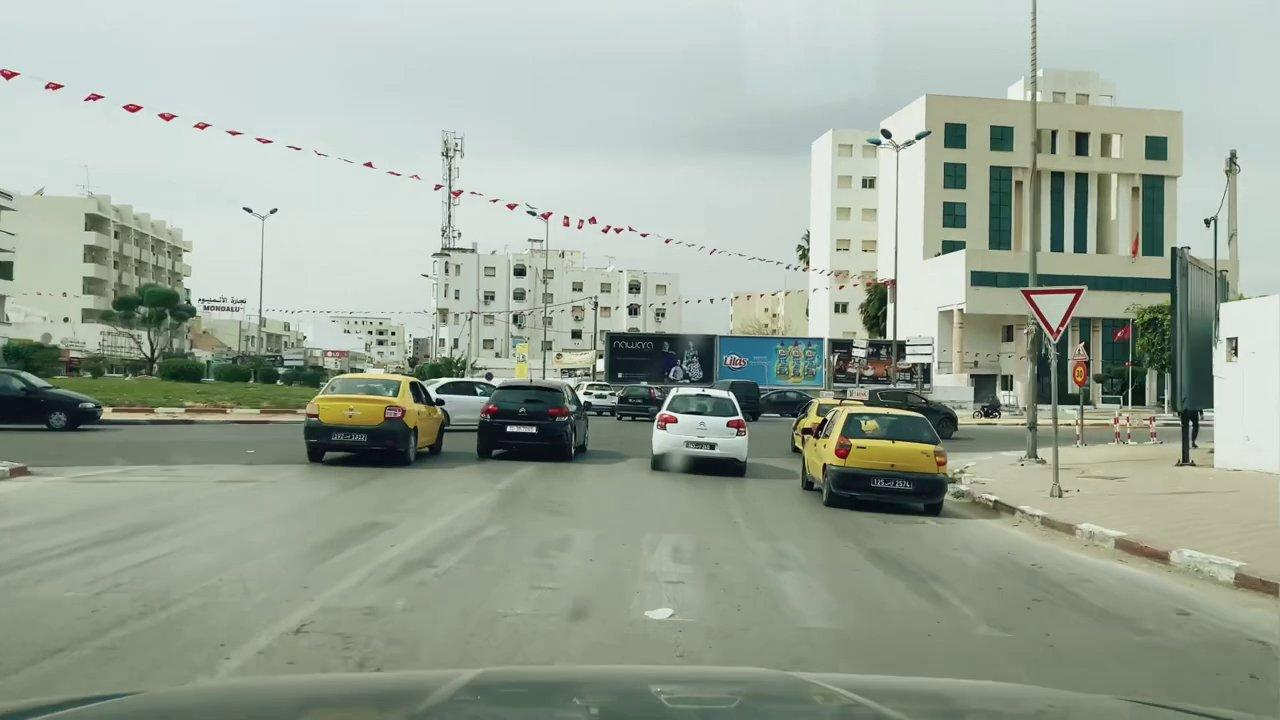give way: (1017, 282, 1093, 342)
